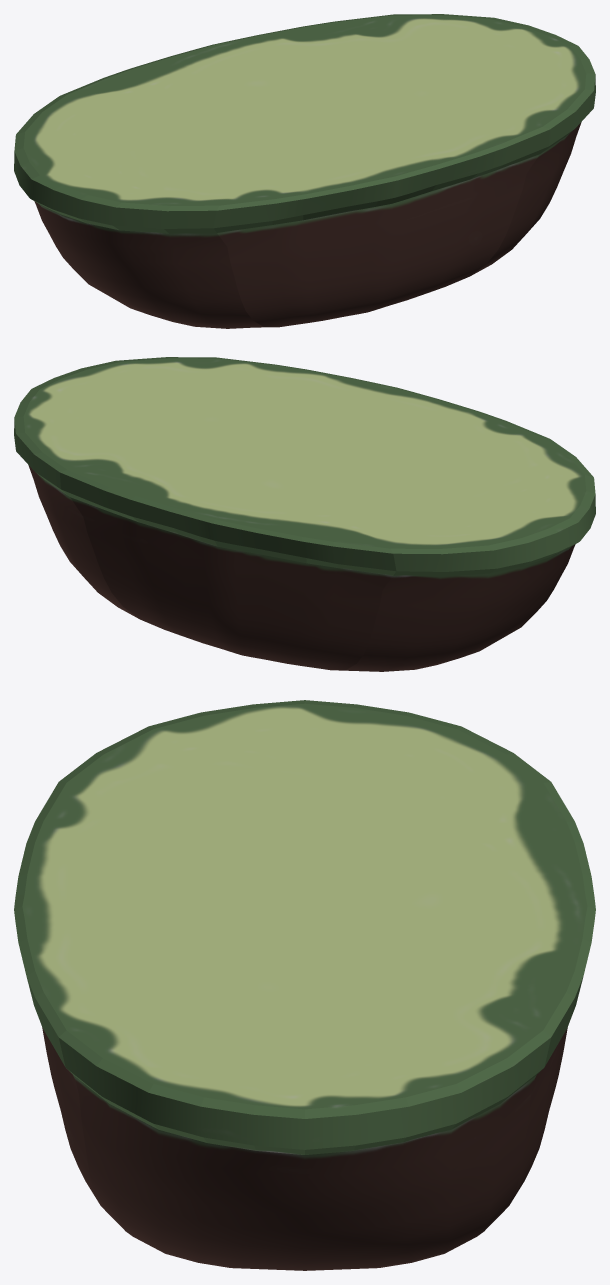
The model's file is arena_02.fbx.
3 renders of one model, top to bottom at view 1: azimuth 30°, elevation 25°; view 2: azimuth 150°, elevation 25°; view 3: azimuth 270°, elevation 25°, orthographic. The views are drawn at different scales.
Visible parts, largest first — view 1: main_arena; view 2: main_arena; view 3: main_arena.
Part boxes in pixels (box(x1,y1,x2,y2)): main_arena: box(14, 14, 595, 328); main_arena: box(14, 357, 595, 671); main_arena: box(14, 700, 595, 1270).
Bounding box in the file's own units: 207 × 56.1 × 121.
Materials: 1 (1 with a texture image).
